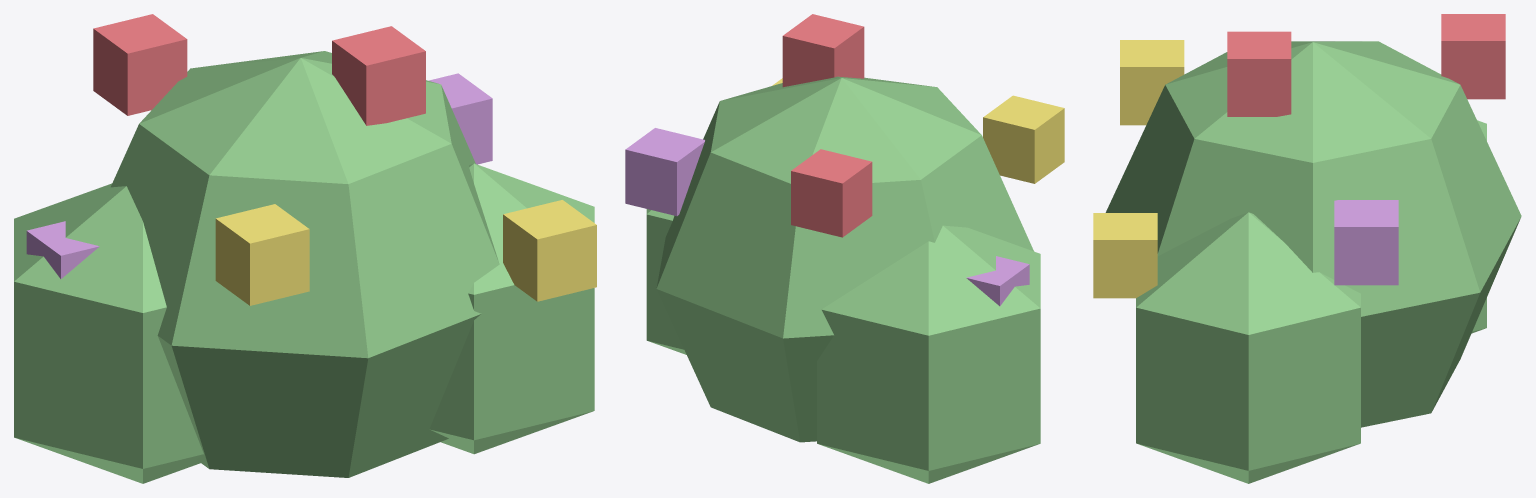
File: bush_flowering.glb
3 renders of one model, left to right at view 1: azimuth 30°, elevation 25°; view 2: azimuth 150°, elevation 25°; view 3: azimuth 270°, elevation 25°, orthographic. The views are drawn at different scales.
Parts seen in each view (by area): view 1: leaves, flowers; view 2: leaves, flowers; view 3: leaves, flowers.
Boxes of the visible parts, bbox=[...] form: leaves: bbox=[14, 51, 594, 483]; flowers: bbox=[26, 14, 596, 305]; leaves: bbox=[646, 76, 1040, 483]; flowers: bbox=[625, 14, 1064, 306]; leaves: bbox=[1105, 41, 1521, 483]; flowers: bbox=[1093, 14, 1505, 298].
Bounding box in the file's own units: 1.04 × 0.84 × 0.8.
